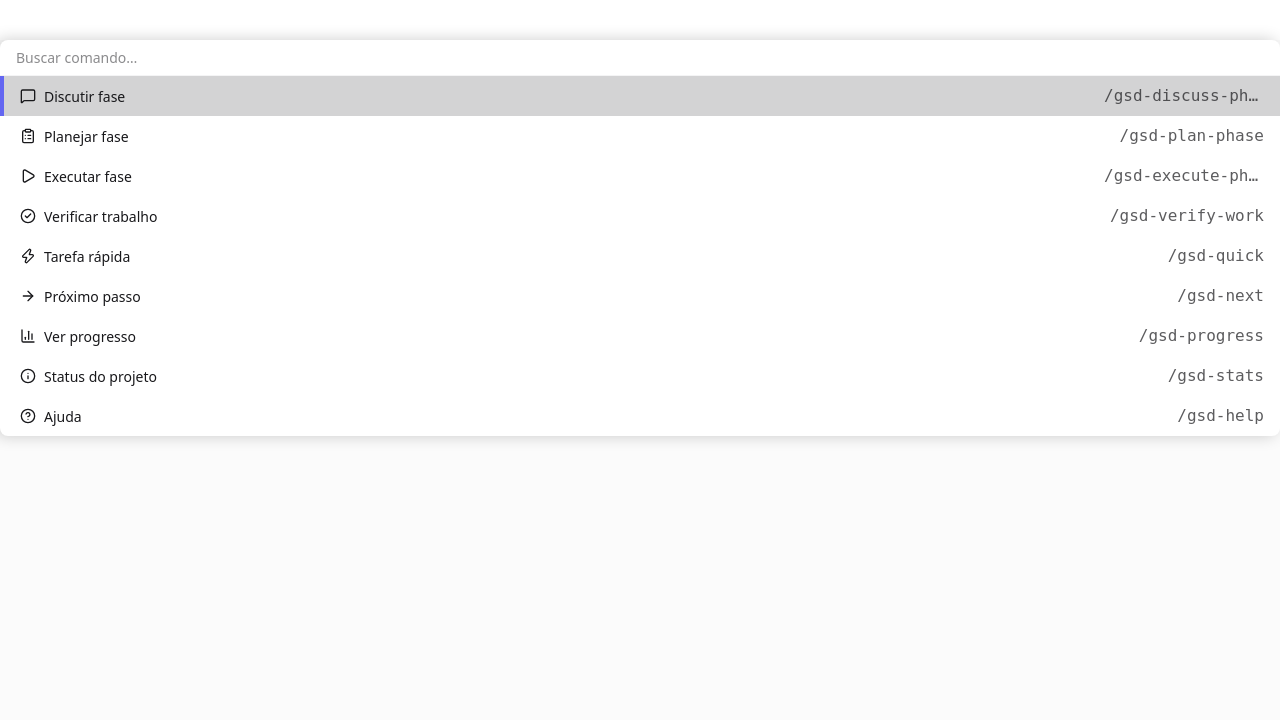
CommandPalette — filtro (ACT-04) › sem match nenhum mostra commands.palette.empty, input continua editável
In the field with placeholder "Buscar comando…": (640, 58) [0, 40, 1279, 76], type "zzzzzznomatch"
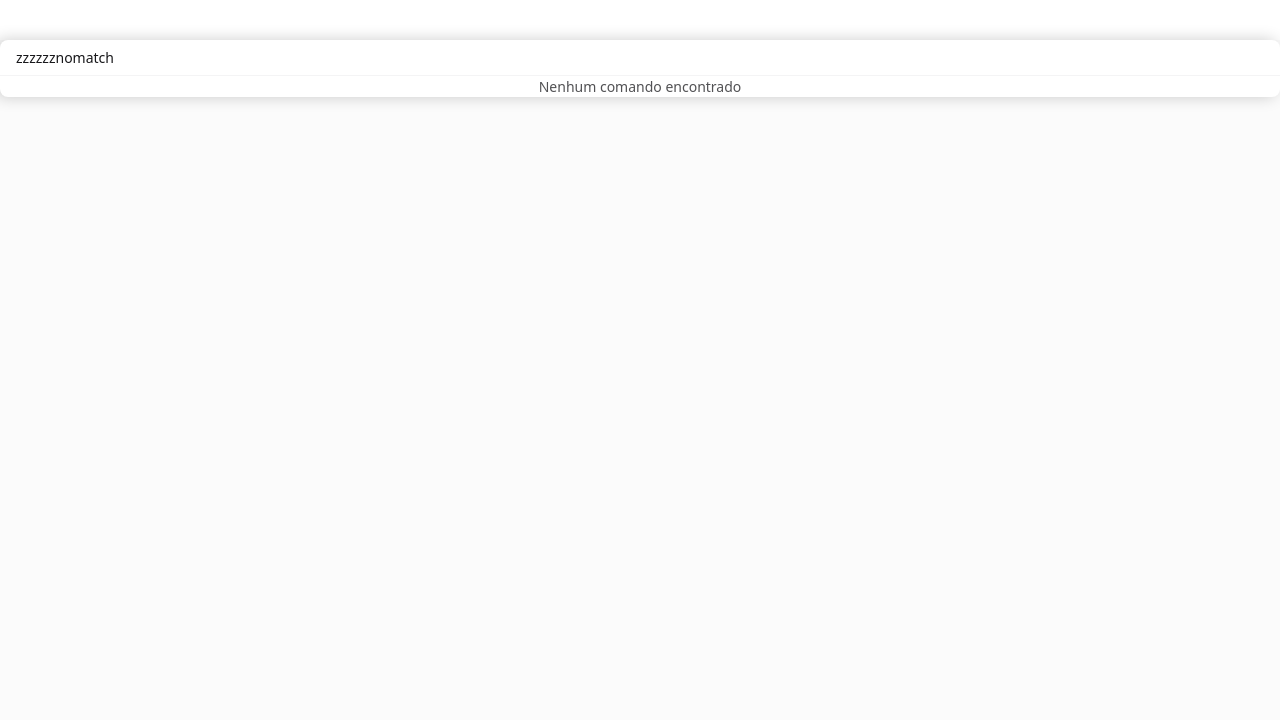
Now the text "Nenhum comando encontrado" is shown, box [539, 77, 741, 96]
Now the button "Ajuda" is gone
